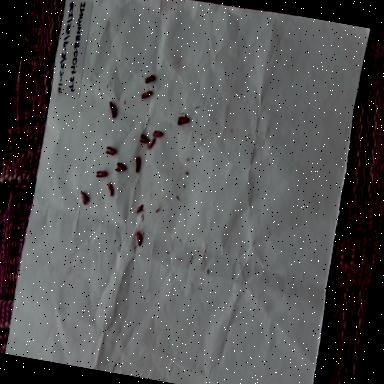pbw: (101, 176, 119, 204), (128, 150, 146, 178), (145, 124, 167, 146), (104, 94, 121, 122), (132, 224, 148, 251), (74, 186, 92, 210), (112, 158, 130, 181), (176, 108, 194, 130), (143, 133, 159, 156), (132, 198, 148, 220), (138, 89, 155, 109), (137, 130, 151, 154), (101, 142, 118, 161), (92, 166, 108, 184), (144, 69, 156, 88)
